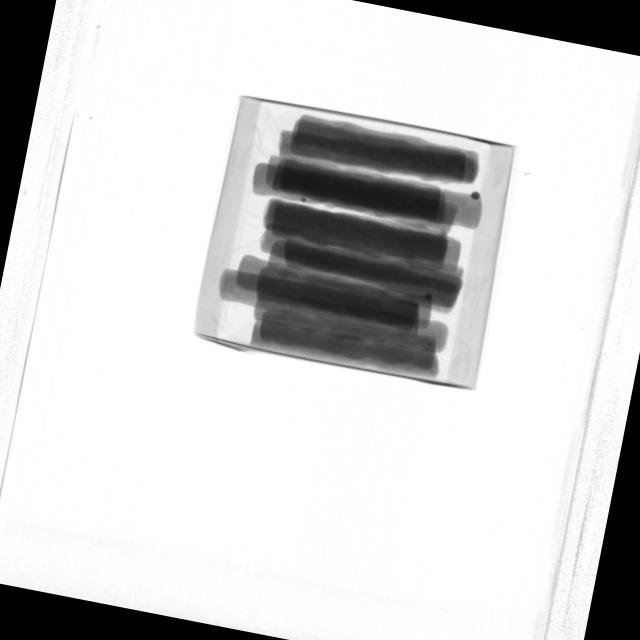ym: (471, 191, 481, 202), (425, 293, 434, 302), (302, 197, 308, 203), (427, 342, 432, 347)
